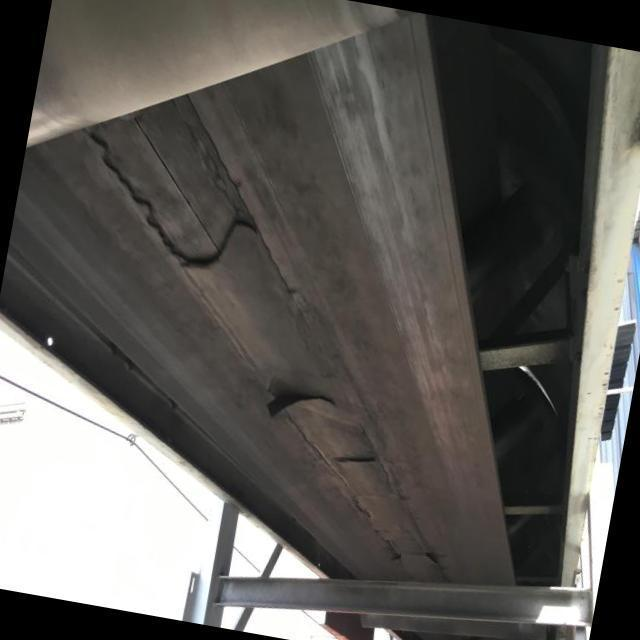Wear: (66, 93, 467, 598)
